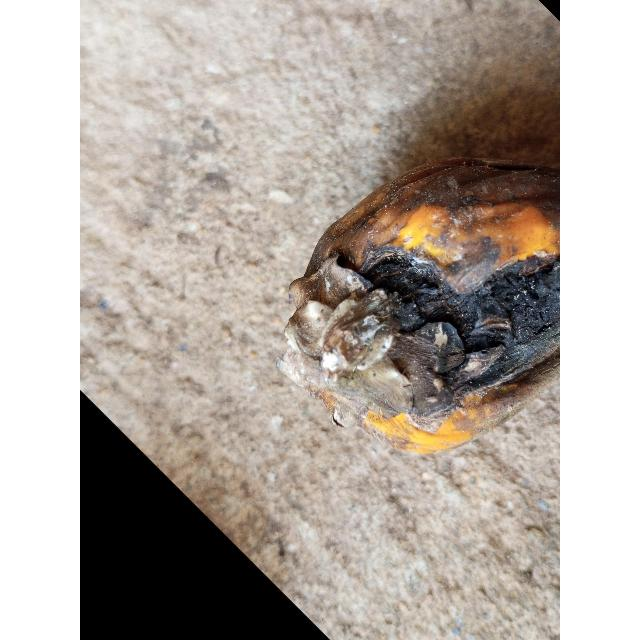damaged: (277, 159, 560, 453)
